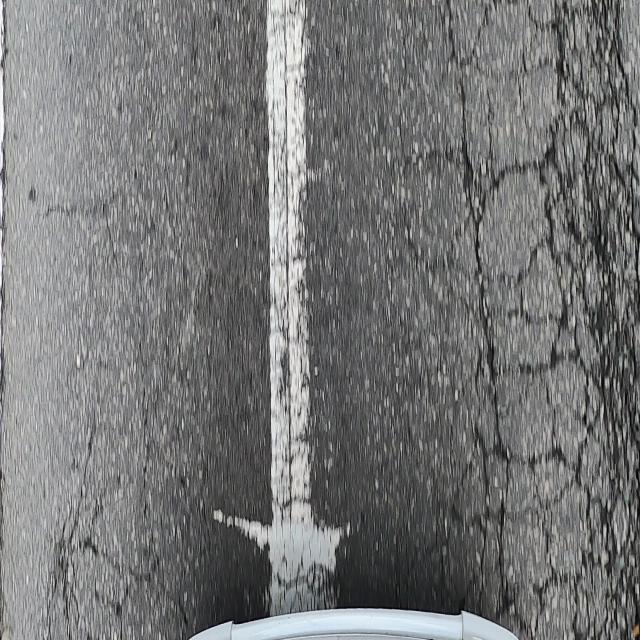Retak-Buaya: (407, 0, 640, 640), (47, 483, 187, 640)
